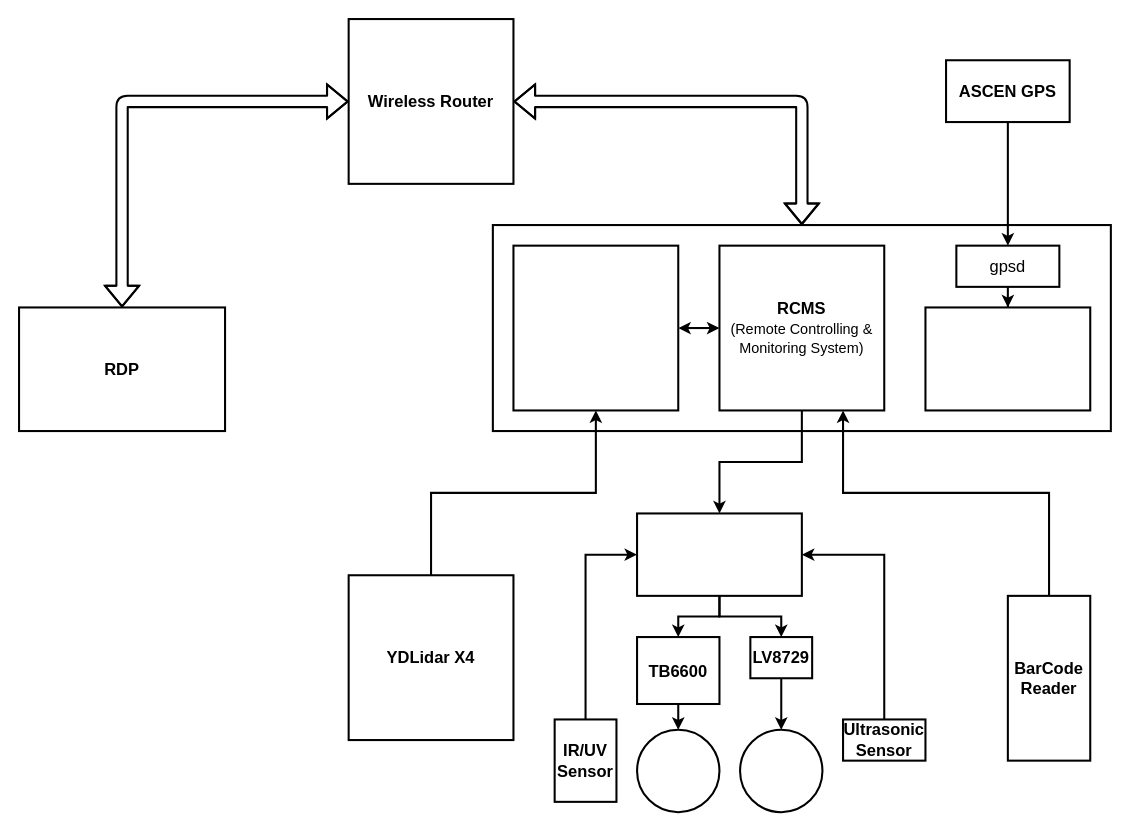
Image size: 1129x830. Some labels were removed from this diagram. Each missing label, with the centre of its shape:
FoxtrotGPS: pixel 1007 358
MCU: pixel 719 554
ROS: pixel 595 327
Stepper Motor (drive): pixel 678 770
Stepper Motor (Operate): pixel 781 770
